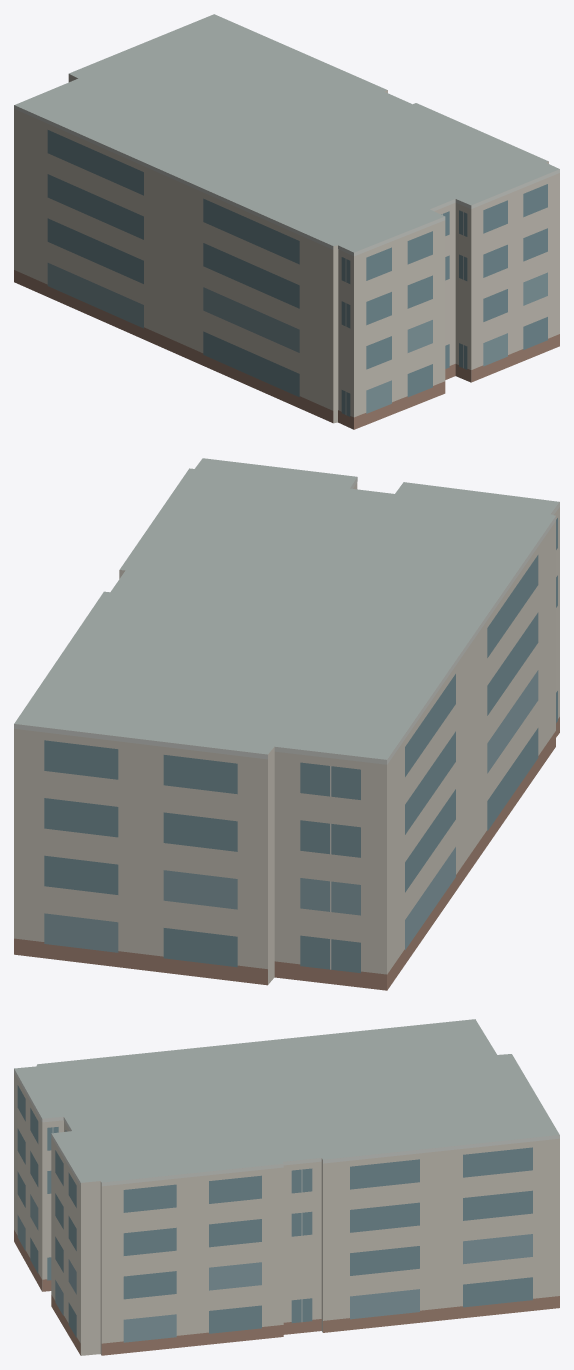
Rendered from survey-upis-32815100.glb.
The picture shows the model from 3 angles, top to bottom: view 1: azimuth 30°, elevation 25°; view 2: azimuth 150°, elevation 25°; view 3: azimuth 270°, elevation 25°; orthographic projection. The views are drawn at different scales.
Visible parts, largest first — view 1: survey-upis-32815100.tmp; view 2: survey-upis-32815100.tmp; view 3: survey-upis-32815100.tmp.
Boxes of the visible parts, <box> form: survey-upis-32815100.tmp: <box>14,14,559,429</box>; survey-upis-32815100.tmp: <box>14,458,559,990</box>; survey-upis-32815100.tmp: <box>14,1019,559,1355</box>.
Size of the model in its own units: 23.36 by 11.5 by 32.89.
